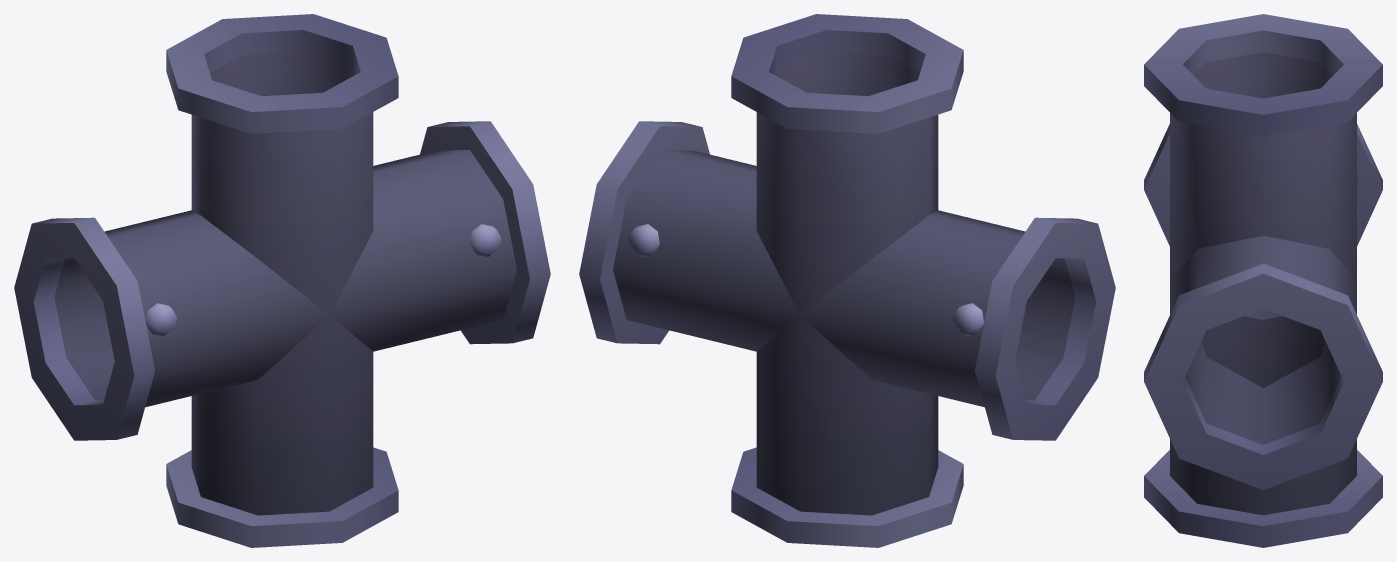
File: kenney-factory-pipe-large-cross.glb
The picture shows the model from 3 angles, left to right: view 1: azimuth 30°, elevation 25°; view 2: azimuth 150°, elevation 25°; view 3: azimuth 270°, elevation 25°; orthographic projection.
Visible parts, largest first — view 1: pipe-large-cross; view 2: pipe-large-cross; view 3: pipe-large-cross.
Boxes of the visible parts, box(x1,y1,x2,y2) form: pipe-large-cross: box(14, 14, 550, 547); pipe-large-cross: box(579, 14, 1115, 547); pipe-large-cross: box(1144, 14, 1382, 547).
Size of the model in its own units: 2 by 2 by 1.
Materials: 1 (1 with a texture image).
